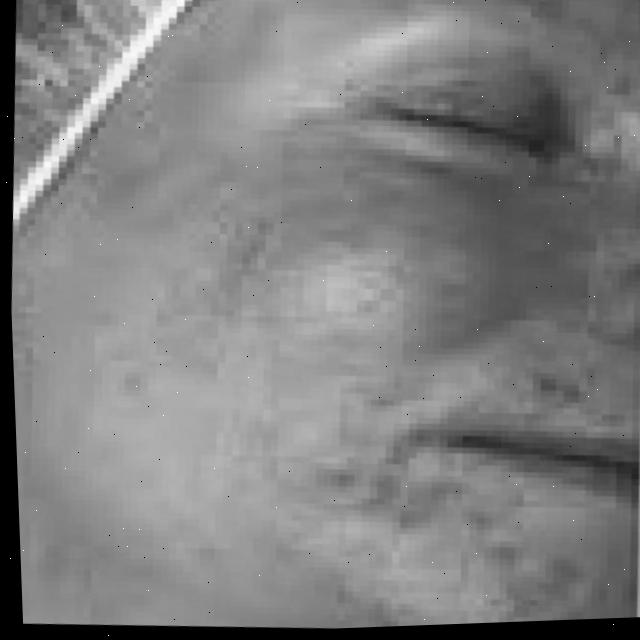Rosacea: (72, 0, 596, 453), (258, 452, 608, 631)
